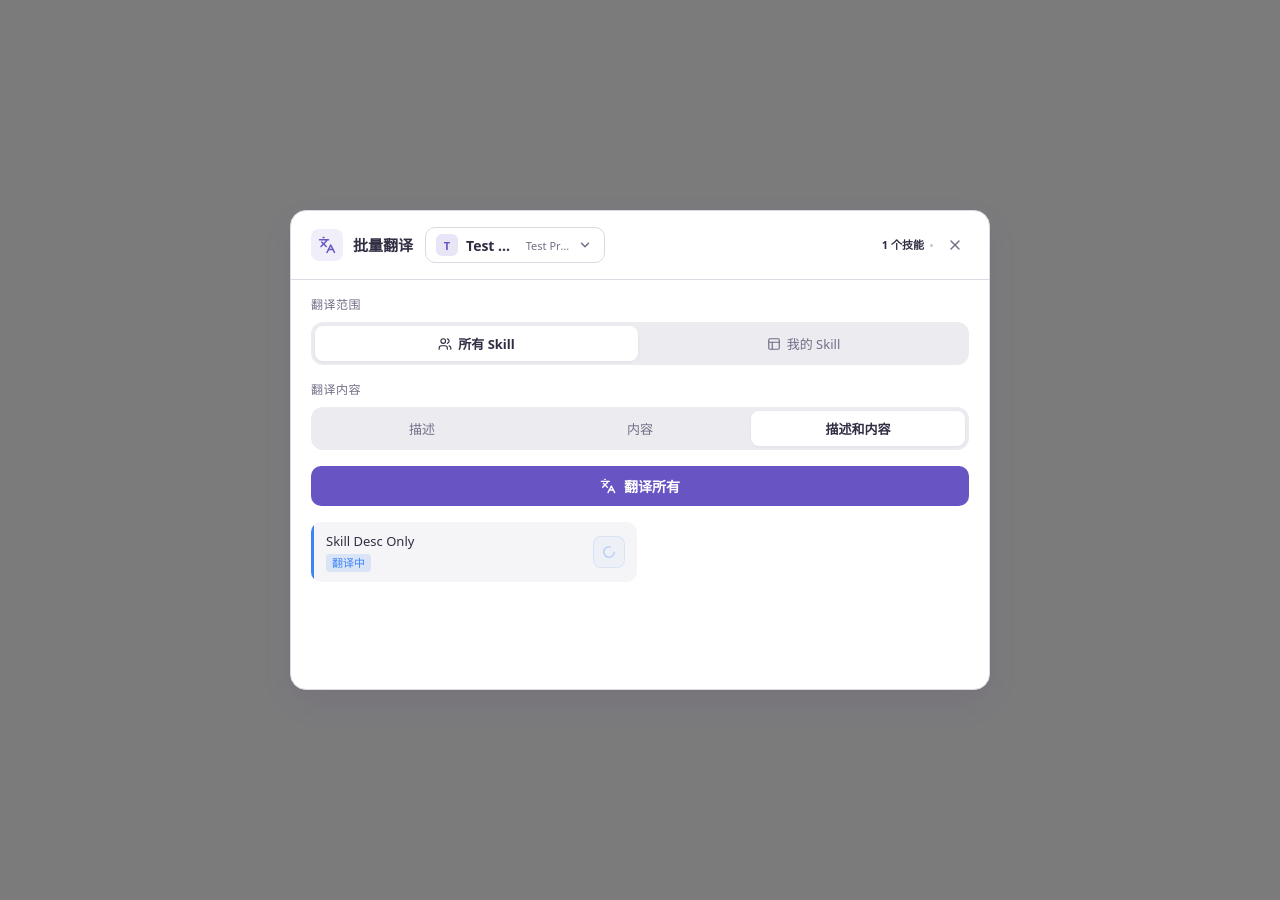
Test: Translation status detection › desc-only translating does not show 翻译中 under content type
Click the button with class "segment-btn" showing "内容".
click(640, 428)  # box [533,411,747,446]
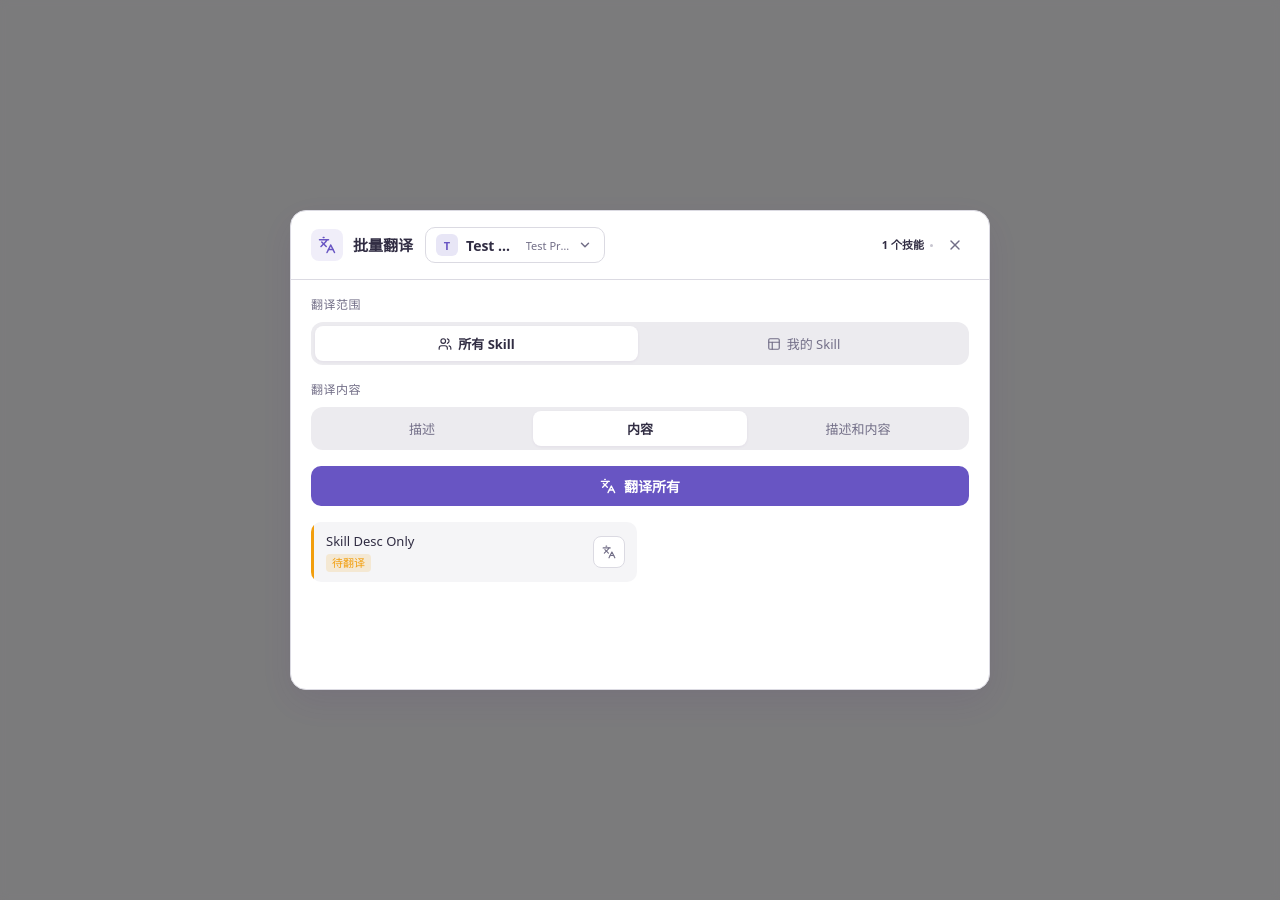
Expected: the text with class "skill-status-badge" no longer shows "翻译中"
Click the button with class "segment-btn" showing "描述".
click(422, 428)  # box [315,411,529,446]
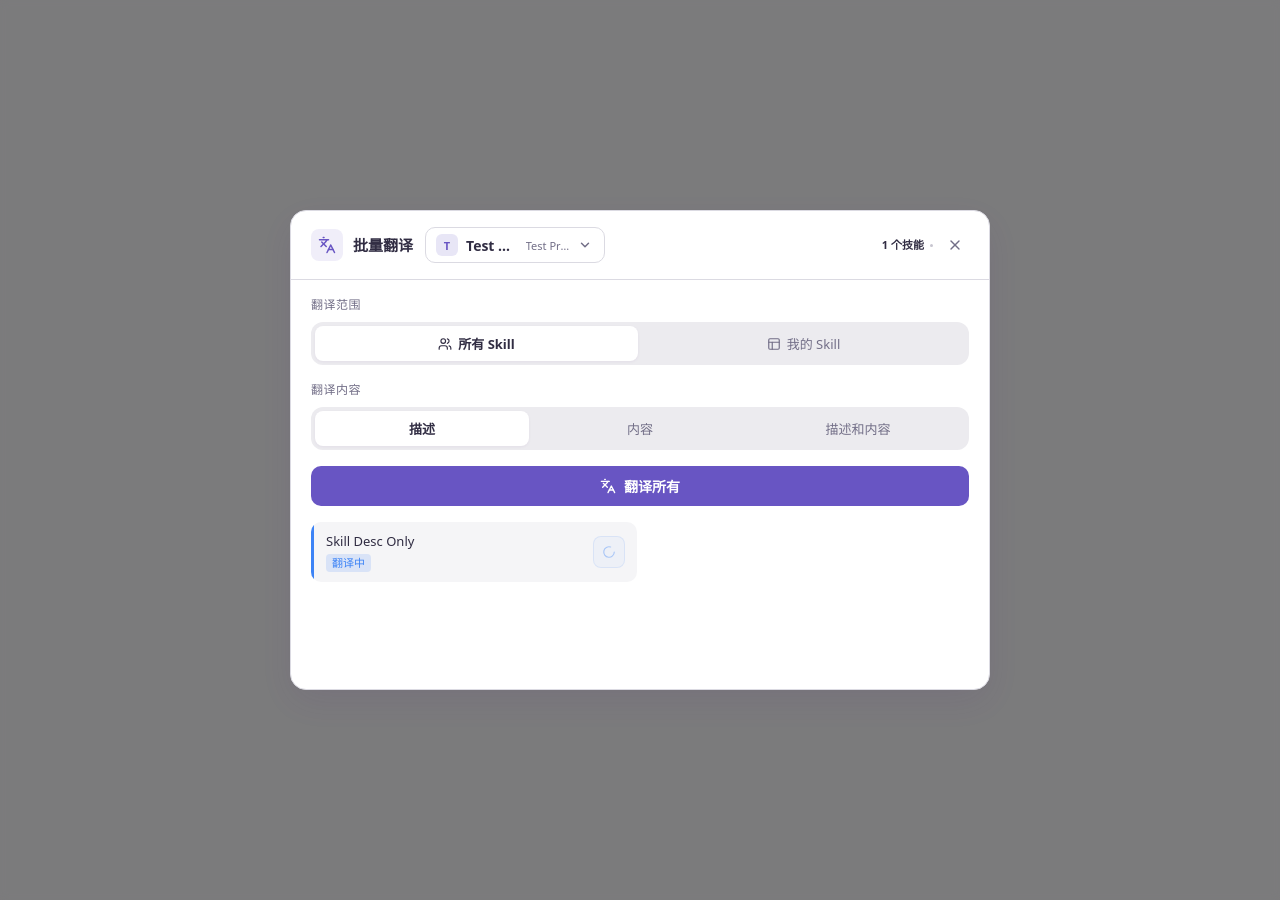
Expected: the text with class "skill-status-badge" reads "翻译中", [332,554,365,570]
